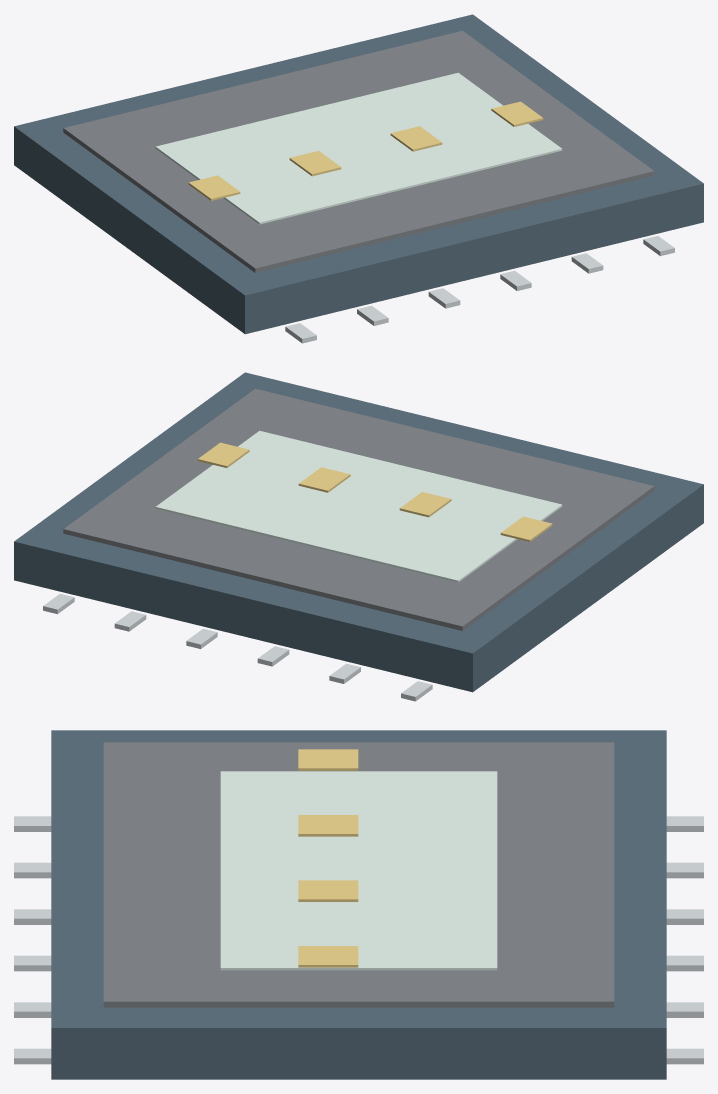
3 renders of one model, top to bottom at view 1: azimuth 30°, elevation 25°; view 2: azimuth 150°, elevation 25°; view 3: azimuth 270°, elevation 25°, orthographic. The views are drawn at different scales.
Visible parts, largest first — view 1: L122_processor__PSMAT__processor, L122_graphite__PSMAT__graphite, L122_silkscreen__PSMAT__silkscreen, L122_gold__PSMAT__gold, L122_tin__PSMAT__tin; view 2: L122_processor__PSMAT__processor, L122_graphite__PSMAT__graphite, L122_silkscreen__PSMAT__silkscreen, L122_gold__PSMAT__gold, L122_tin__PSMAT__tin; view 3: L122_processor__PSMAT__processor, L122_graphite__PSMAT__graphite, L122_silkscreen__PSMAT__silkscreen, L122_tin__PSMAT__tin, L122_gold__PSMAT__gold.
Boxes of the visible parts, x1,y1,x2,y2 form: L122_processor__PSMAT__processor: [14, 14, 703, 334]; L122_graphite__PSMAT__graphite: [63, 30, 654, 272]; L122_silkscreen__PSMAT__silkscreen: [155, 72, 562, 224]; L122_gold__PSMAT__gold: [188, 101, 543, 200]; L122_tin__PSMAT__tin: [285, 236, 674, 343]; L122_processor__PSMAT__processor: [14, 372, 703, 692]; L122_graphite__PSMAT__graphite: [63, 388, 654, 630]; L122_silkscreen__PSMAT__silkscreen: [155, 430, 562, 582]; L122_gold__PSMAT__gold: [197, 442, 552, 541]; L122_tin__PSMAT__tin: [43, 594, 432, 701]; L122_processor__PSMAT__processor: [51, 730, 666, 1079]; L122_graphite__PSMAT__graphite: [103, 742, 614, 1007]; L122_silkscreen__PSMAT__silkscreen: [220, 771, 497, 970]; L122_tin__PSMAT__tin: [14, 816, 703, 1064]; L122_gold__PSMAT__gold: [298, 749, 358, 967].
Size of the model in its own units: 0.047 by 0.00613 by 0.046.
